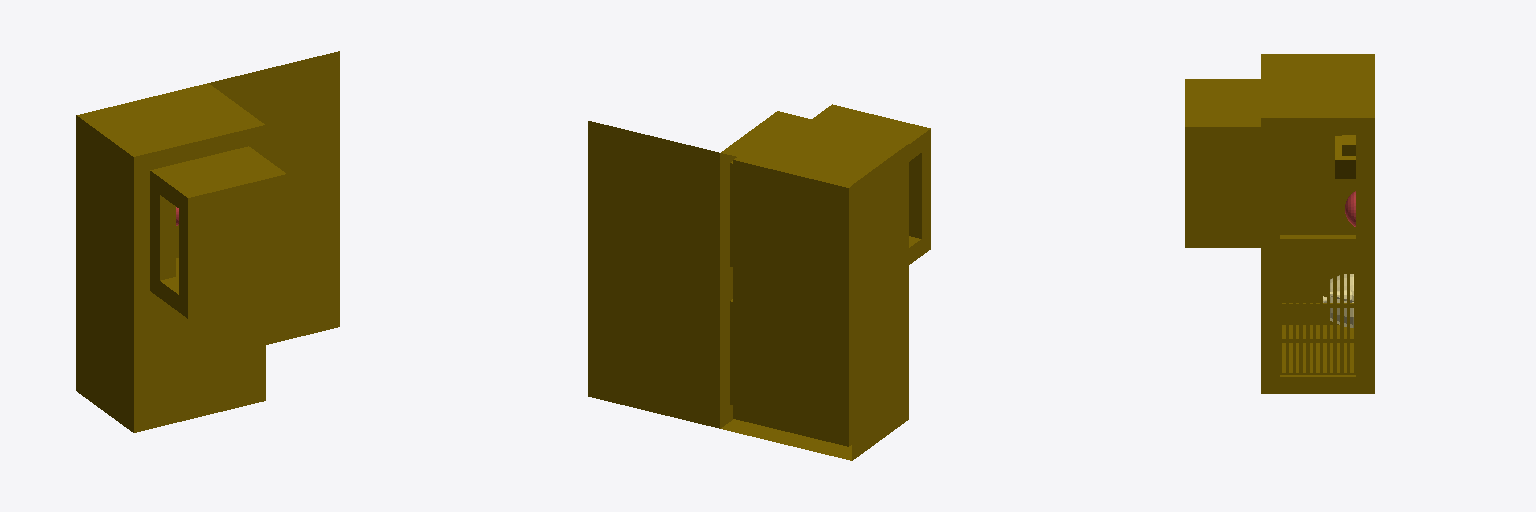
The model's file is room.obj.
3 views of the same model, side by side, from view 1: azimuth 30°, elevation 25°; view 2: azimuth 150°, elevation 25°; view 3: azimuth 270°, elevation 25° (orthographic).
Visible parts, largest first — view 1: Box01; view 2: Box01; view 3: Box01, Teapot01.
Part boxes in pixels (x1,y1,x2,y2): Box01: (76, 51, 339, 432); Box01: (588, 104, 930, 460); Box01: (1185, 54, 1374, 393); Teapot01: (1323, 274, 1353, 327).
Bounding box in the file's own units: 64 × 64 × 40.